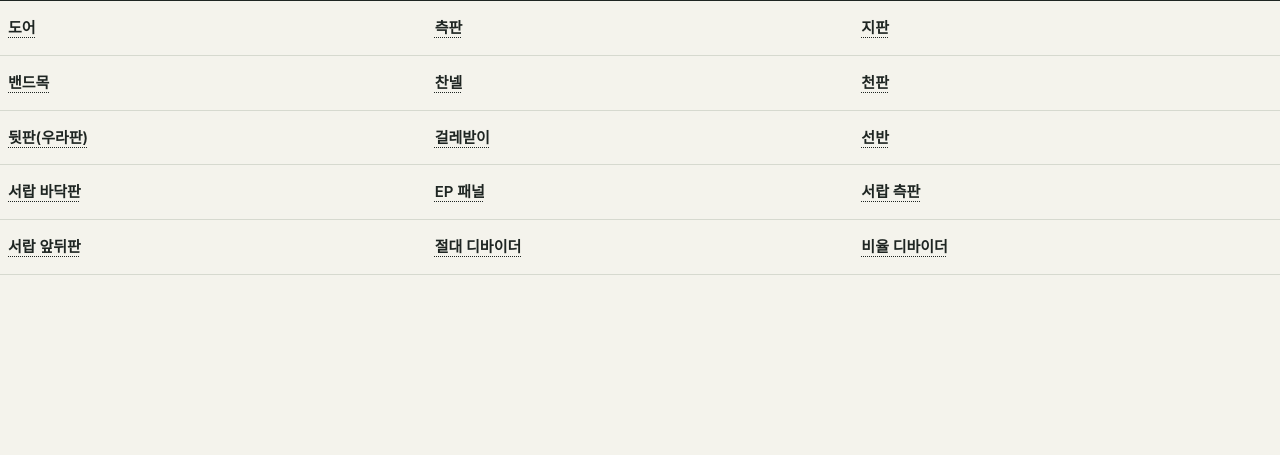
PanelCatalogComponent › shows one panel at a time on tap and dismisses when pressing outside
The width and height of the screenshot is (1280, 455).
Click the button "도어" at (22, 28), box x1=8 y1=15 x2=36 y2=41
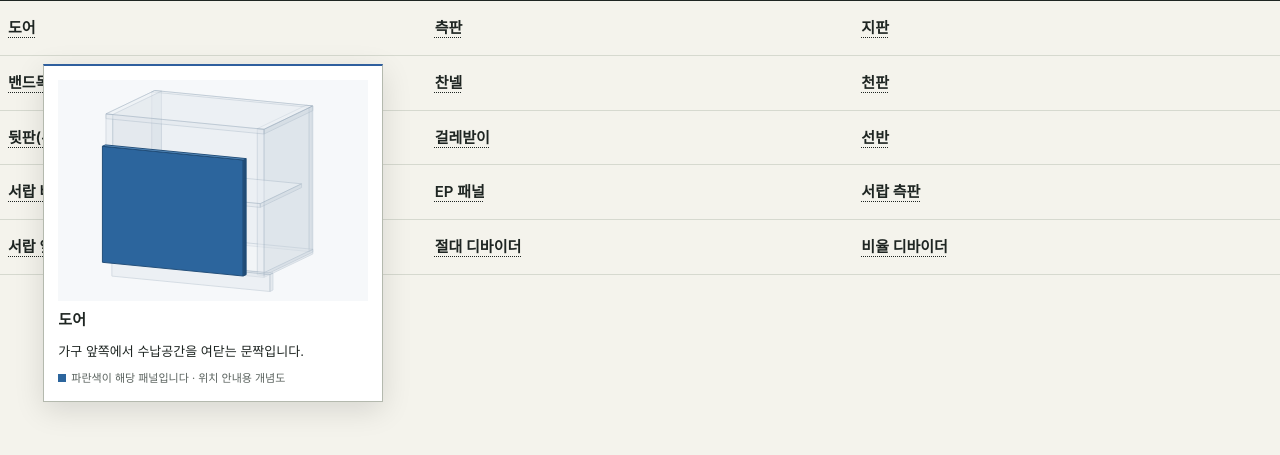
Click the button "측판" at (448, 28), box x1=435 y1=15 x2=462 y2=41
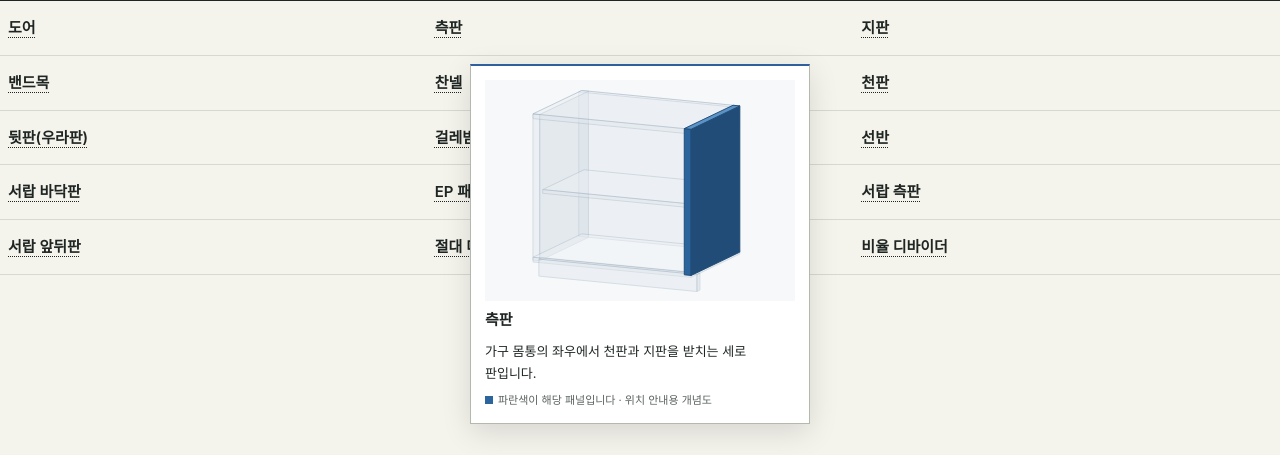
Check: the number of tooltips with class "open" is 1, box x1=470 y1=56 x2=810 y2=432
Check: the text "측판" is shown, box x1=485 y1=310 x2=513 y2=329
Press the mouse on the element that starts with "가구 몸통의 좌우에서 천판과 지판을 받치는 세로 판입니다." at (640, 137), box x1=0 y1=0 x2=1279 y2=275
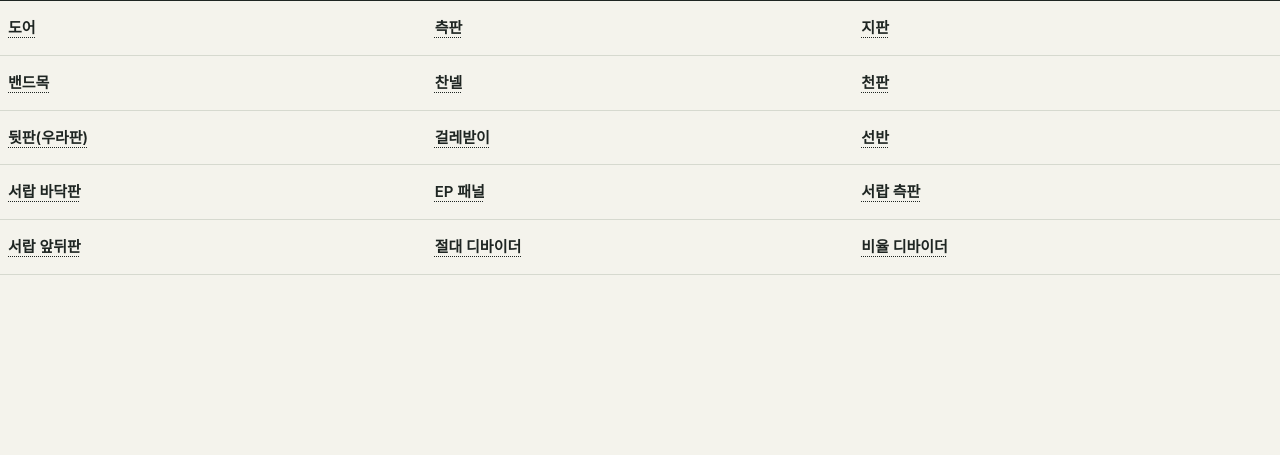
Check: the tooltip with class "open" is gone
